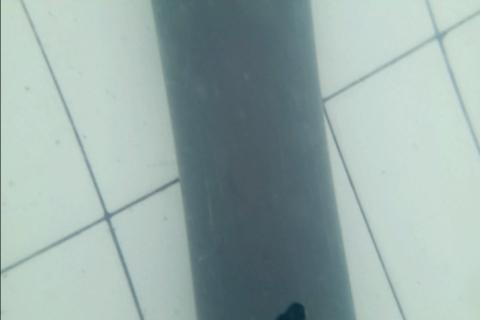kebocoran: (276, 301, 308, 320)
